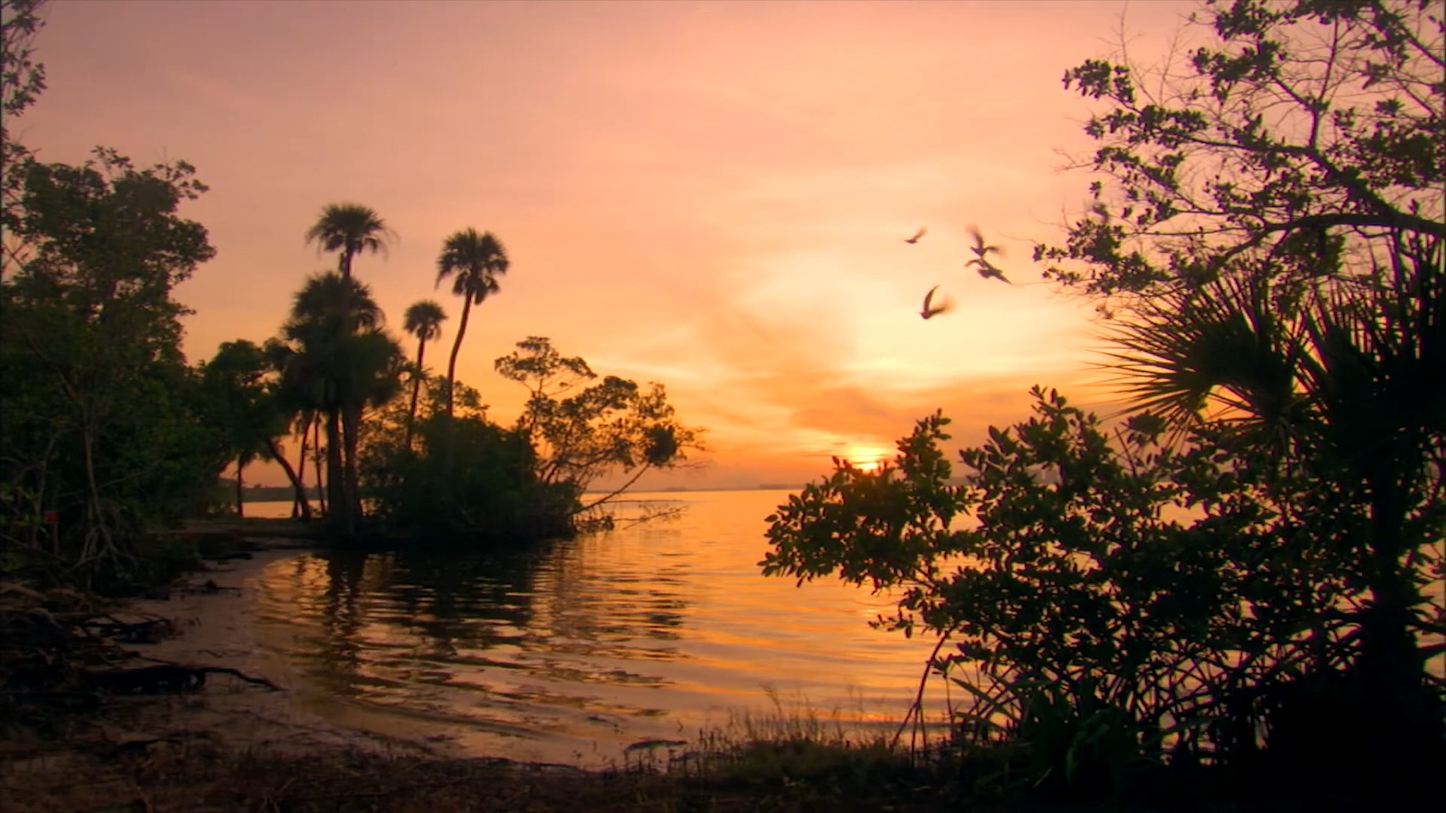not_drone: (917, 282, 953, 323), (965, 223, 1000, 256), (981, 258, 1015, 289), (899, 220, 927, 247)
